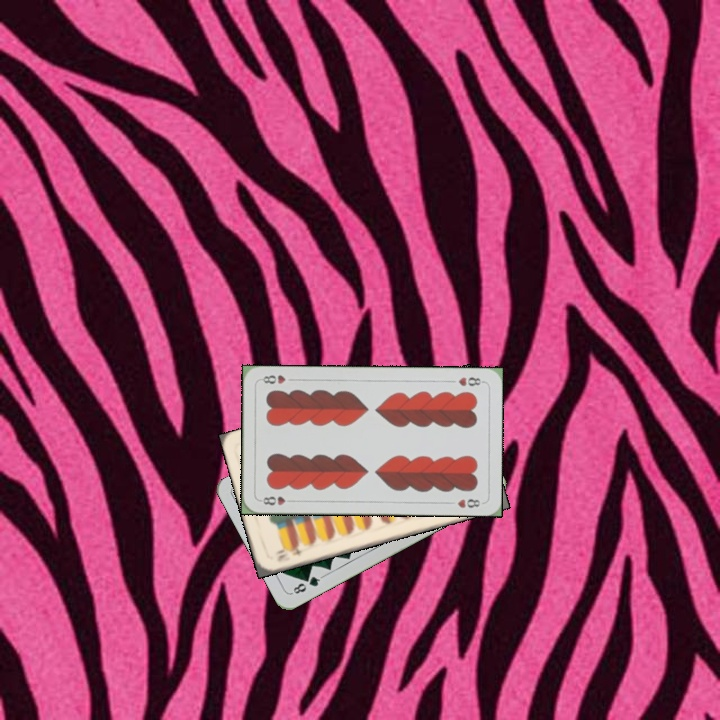E10: (271, 541, 305, 565)
G8: (288, 572, 325, 597)
H8: (256, 492, 297, 508), (454, 373, 486, 389)
